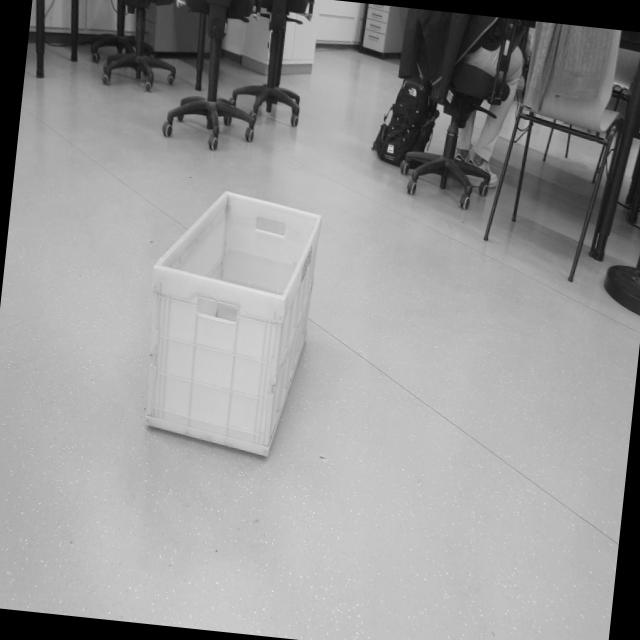box: (124, 174, 325, 486)
